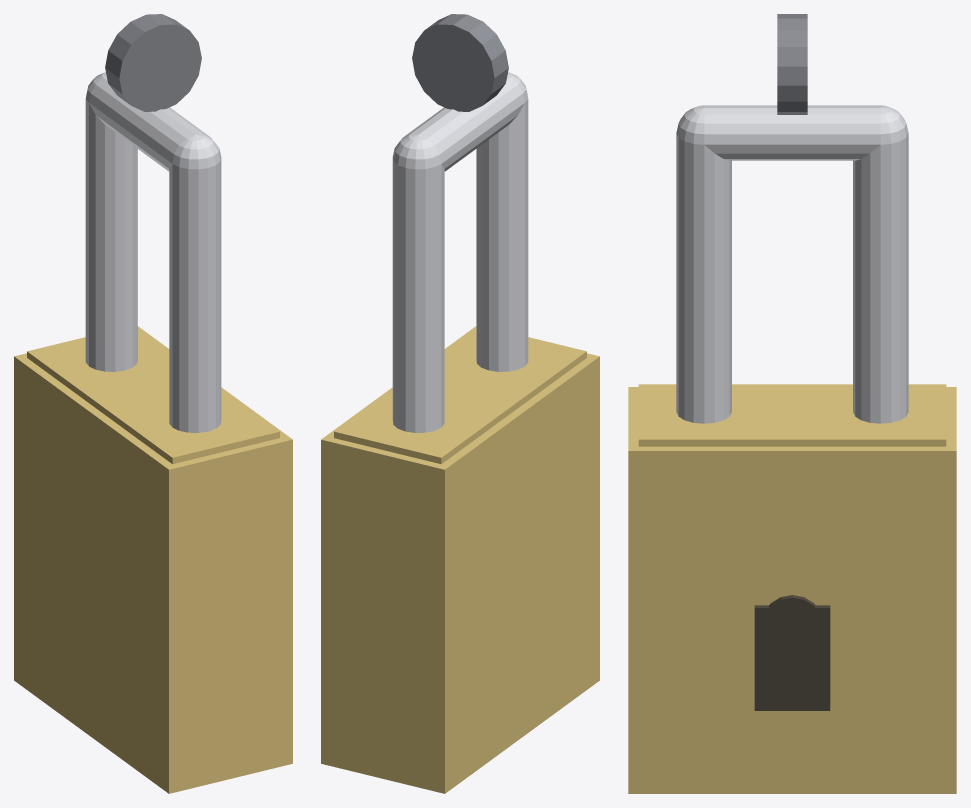
Rendered from padlock.glb.
3 views of the same model, side by side, from view 1: azimuth 30°, elevation 25°; view 2: azimuth 150°, elevation 25°; view 3: azimuth 270°, elevation 25° (orthographic). The views are drawn at different scales.
Parts seen in each view (by area): view 1: Padlock; view 2: Padlock; view 3: Padlock.
Boxes of the visible parts, x1,y1,x2,y2 form: Padlock: [14, 14, 292, 793]; Padlock: [321, 14, 599, 793]; Padlock: [628, 14, 956, 793].
Bounding box in the file's own units: 0.0625 × 0.325 × 0.13.
